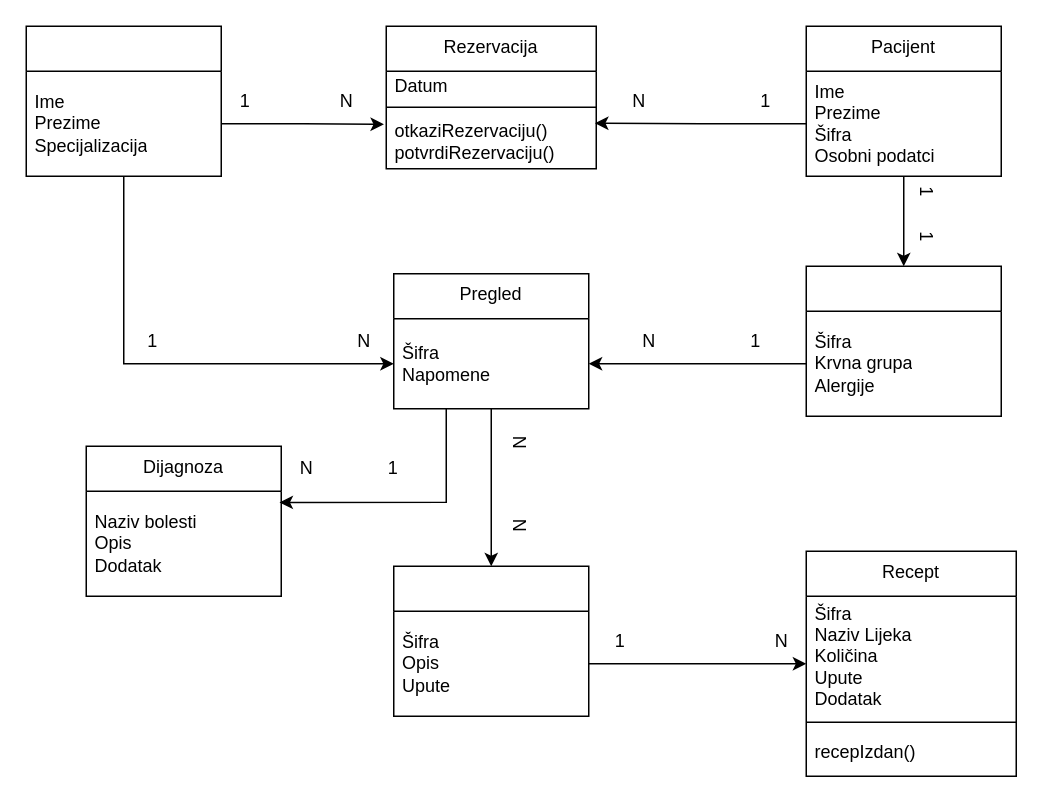
Some shapes in this 1043 by 803 pixel diagram are drawn without their labels. The box of each missing label's shape, as (x1, y1, x2, y2) in pixels:
Digitalni Karton: (805, 265, 1001, 416)
Liječnik: (25, 25, 221, 176)
Terapija: (392, 565, 589, 716)
